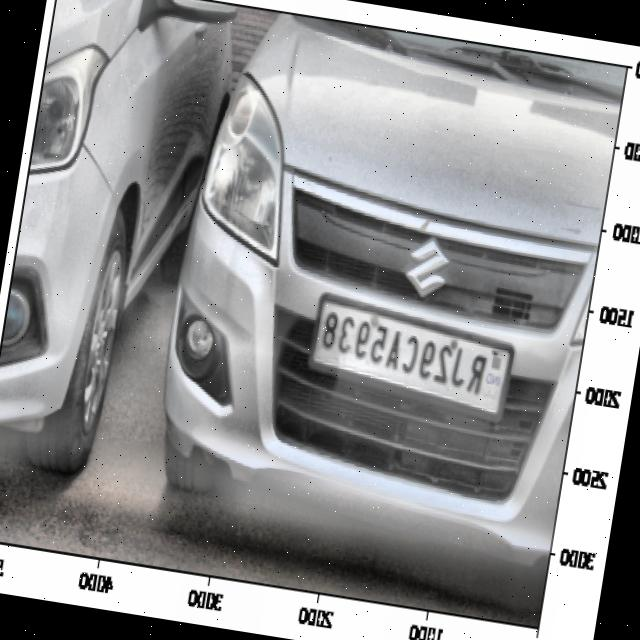license_plate: (312, 307, 509, 404)
